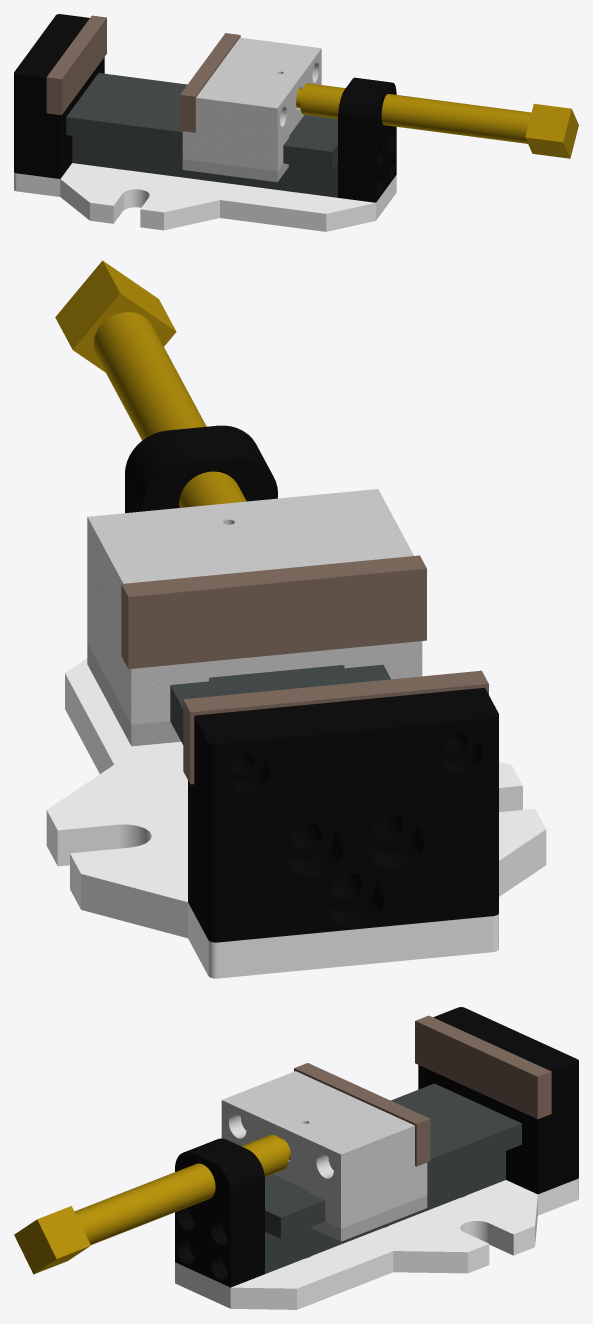
Rendered from Machine Vice_embedded.gltf.
3 views of the same model, one above another, from view 1: azimuth 30°, elevation 25°; view 2: azimuth 150°, elevation 25°; view 3: azimuth 270°, elevation 25° (orthographic). The views are drawn at different scales.
Parts seen in each view (by area): view 1: Solid1040, Solid1036, Solid1041, Solid1046, Solid1038, Solid1037, Solid1039, Solid1042, Solid1043; view 2: Solid1038, Solid1036, Solid1041, Solid1042, Solid1046, Solid1037, Solid1039, Solid1040, Solid1044; view 3: Solid1036, Solid1041, Solid1040, Solid1038, Solid1037, Solid1046, Solid1039, Solid1042, Solid1044.
Part boxes in pixels (x1,y1,x2,y2): Solid1040: [66, 73, 337, 197]; Solid1036: [14, 163, 396, 231]; Solid1041: [182, 37, 321, 171]; Solid1046: [296, 83, 578, 158]; Solid1038: [14, 14, 104, 178]; Solid1037: [338, 77, 396, 202]; Solid1039: [46, 15, 106, 115]; Solid1042: [180, 33, 240, 132]; Solid1043: [182, 159, 288, 182]; Solid1038: [188, 687, 498, 942]; Solid1036: [46, 658, 546, 978]; Solid1041: [87, 489, 422, 724]; Solid1042: [121, 555, 426, 669]; Solid1046: [55, 260, 246, 507]; Solid1037: [125, 425, 277, 513]; Solid1039: [183, 670, 488, 784]; Solid1040: [170, 664, 390, 744]; Solid1044: [87, 643, 180, 746]; Solid1036: [175, 1178, 578, 1309]; Solid1041: [221, 1071, 427, 1228]; Solid1040: [265, 1083, 521, 1273]; Solid1038: [418, 1007, 578, 1194]; Solid1037: [175, 1138, 264, 1287]; Solid1046: [14, 1134, 290, 1274]; Solid1039: [415, 1015, 551, 1119]; Solid1042: [294, 1063, 430, 1166]; Solid1044: [311, 1195, 427, 1241].
Bounding box in the file's own units: 0.2283 × 0.0674 × 0.241.
Materials: 7 (1 with a texture image).
